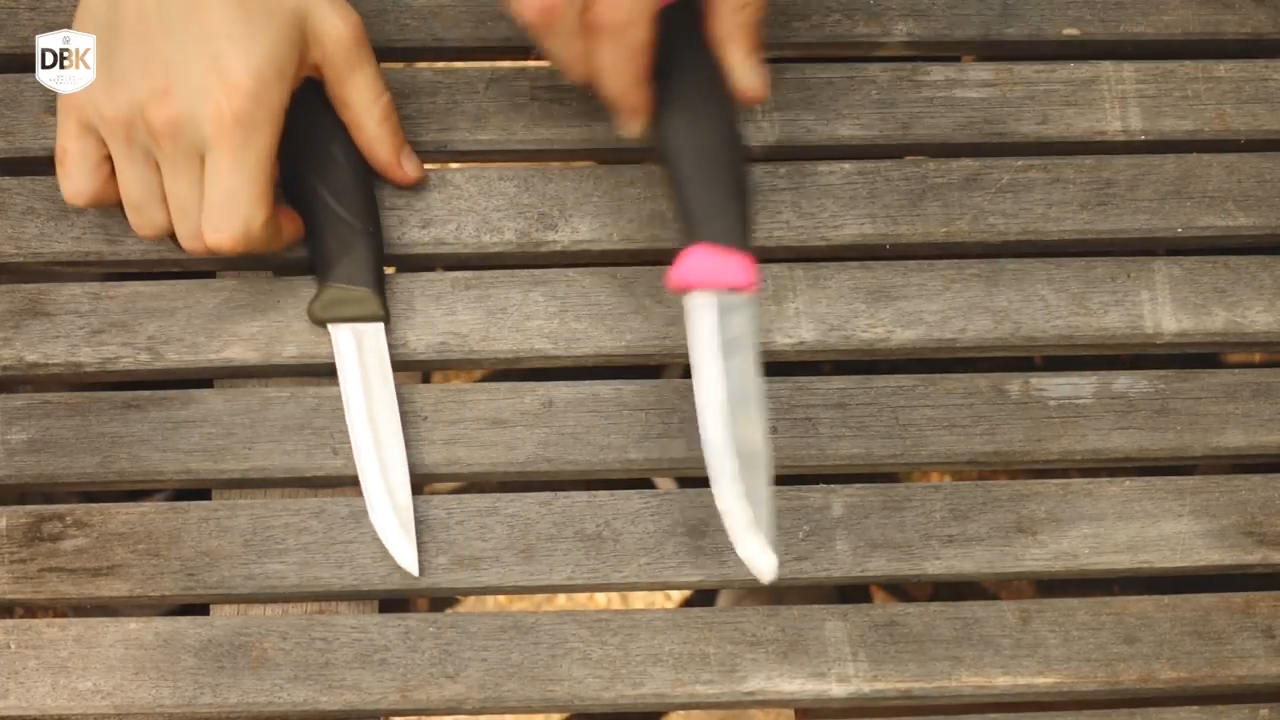knife: (192, 135, 443, 609), (590, 35, 793, 607)
